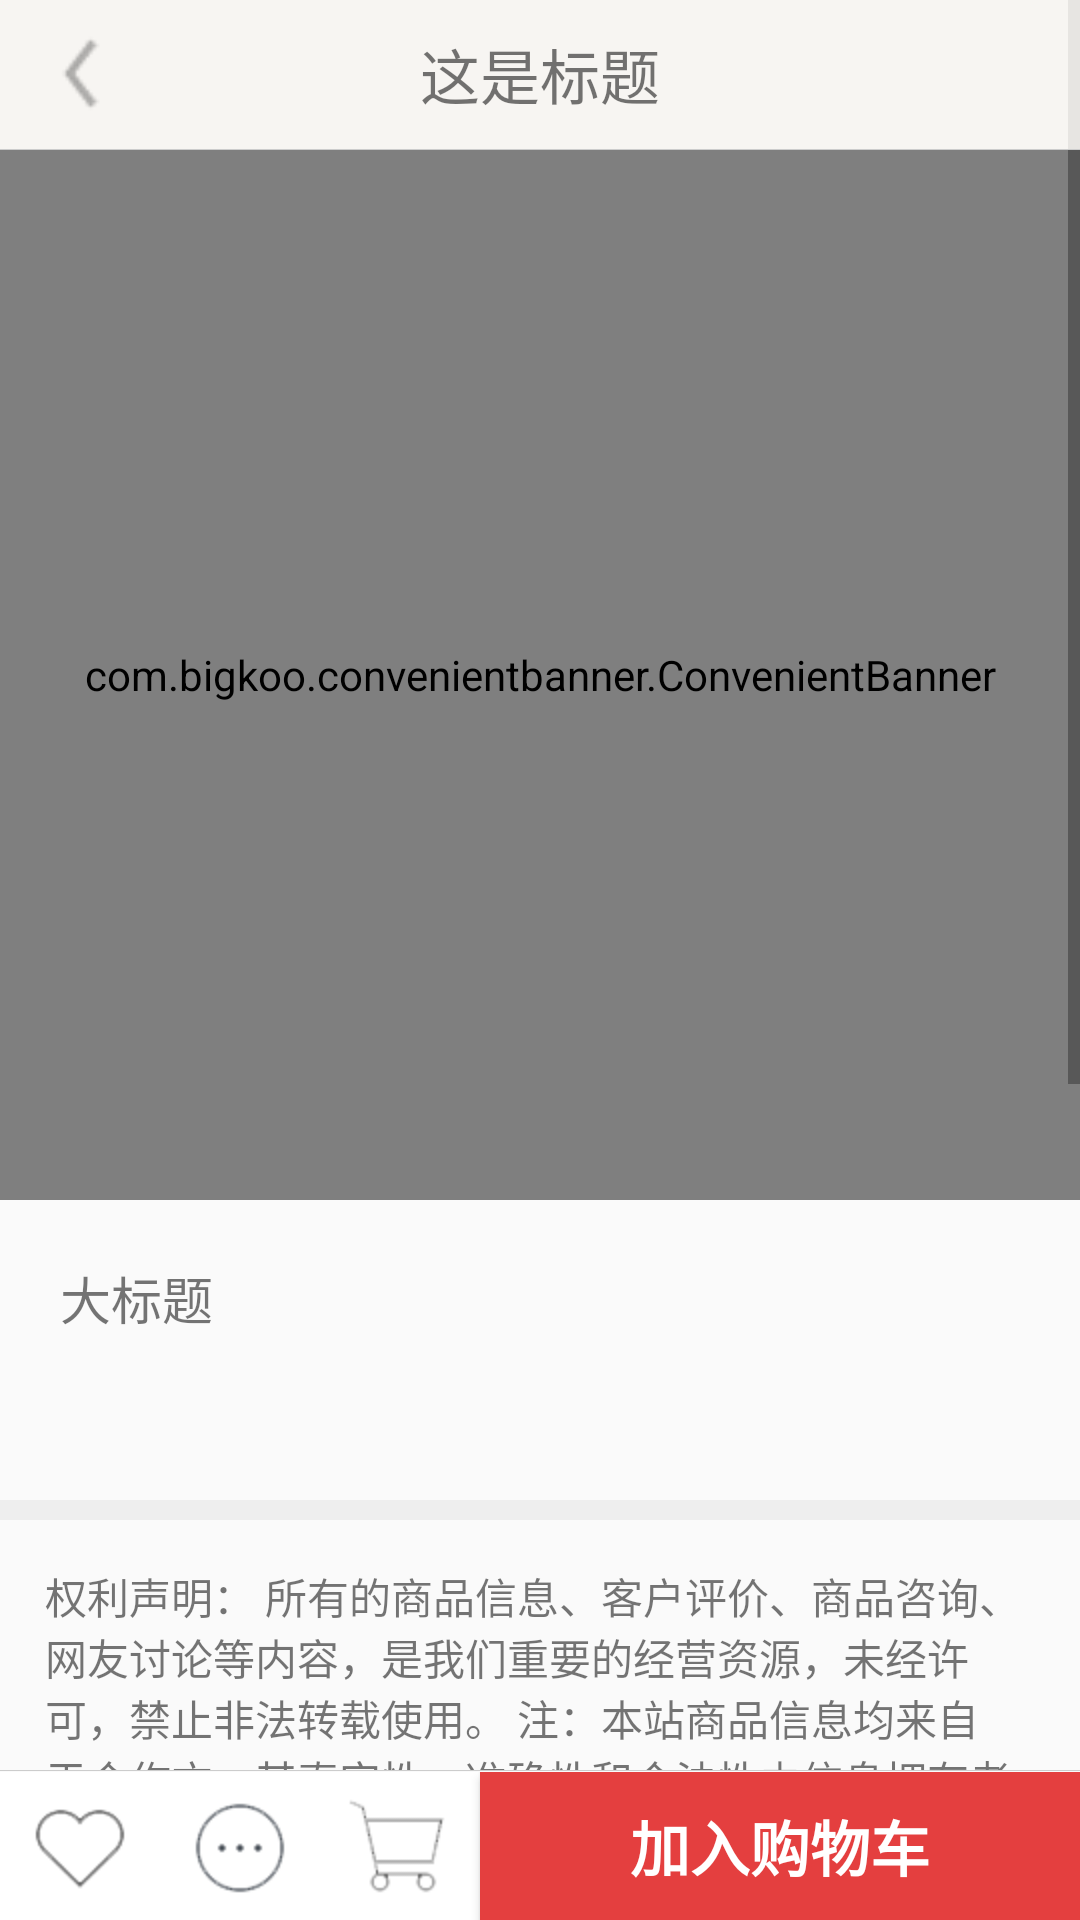

Screen size 1080x1920. Icon name, then its box in pixels as (x1, y1, x2, y2):
backbtn: (65, 40, 97, 107)
car blank: (350, 1801, 443, 1892)
heart blank: (35, 1809, 125, 1888)
